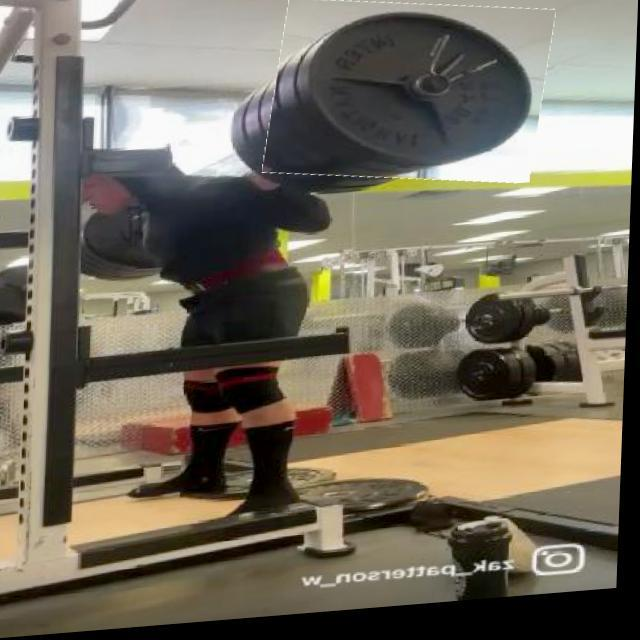barbell: (268, 1, 553, 202)
